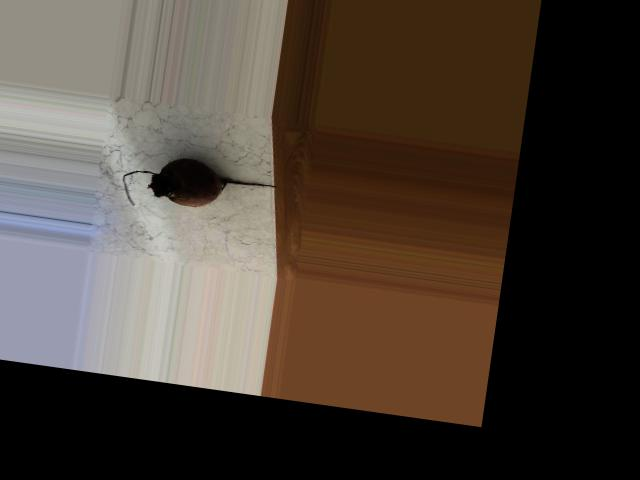beet: (120, 149, 280, 224)
